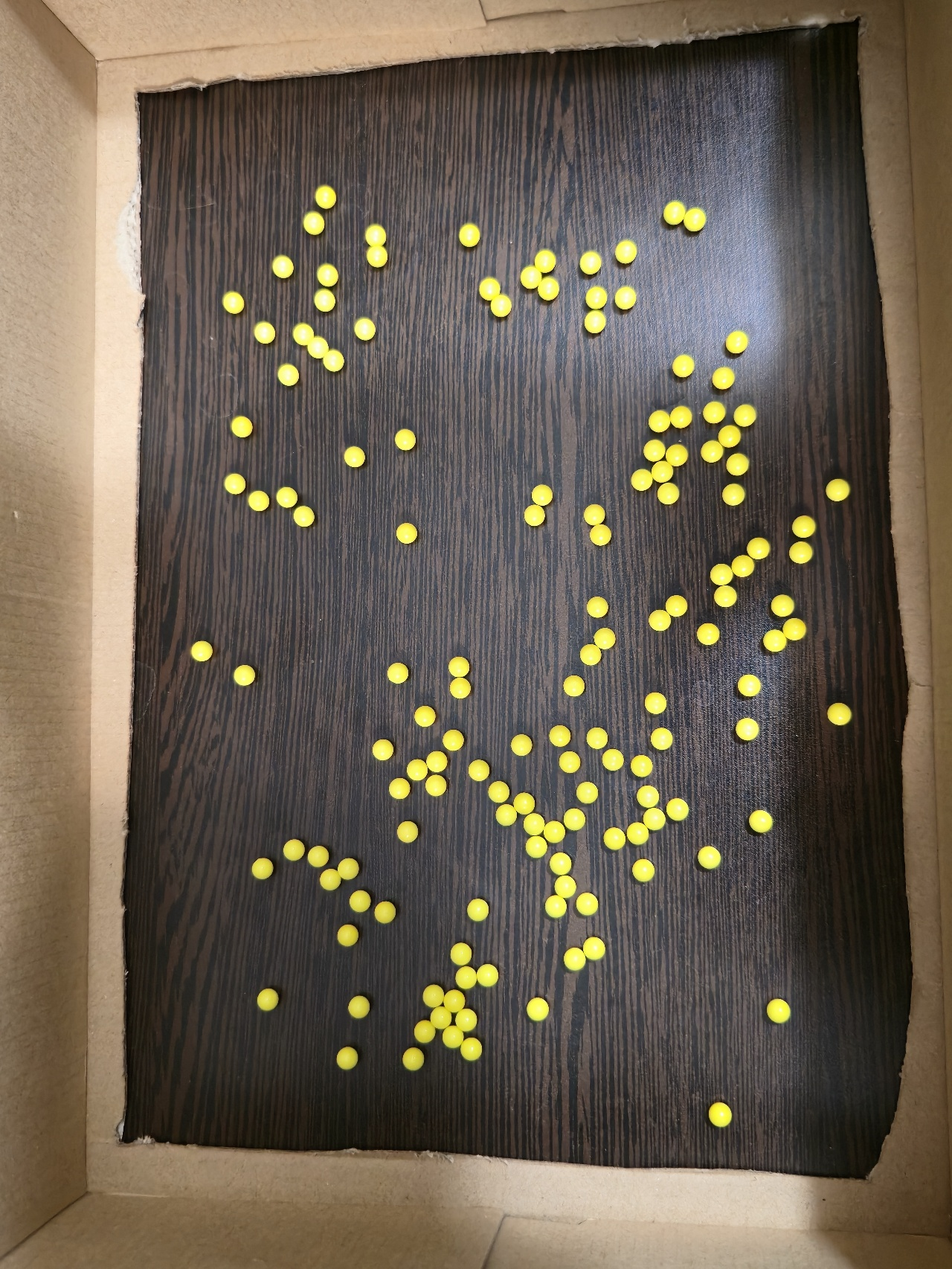yellow_bead: (772, 1004, 785, 1018), (795, 547, 808, 559), (708, 406, 721, 418), (620, 245, 632, 258), (768, 635, 782, 646), (464, 228, 475, 242), (308, 216, 319, 230), (460, 1015, 472, 1027), (532, 1003, 544, 1015), (588, 942, 600, 954), (637, 864, 649, 876), (642, 791, 654, 803), (656, 733, 668, 745), (739, 410, 751, 422), (718, 372, 730, 384), (312, 341, 324, 353), (732, 336, 744, 348), (669, 207, 681, 219), (590, 315, 601, 328), (620, 291, 631, 304), (540, 254, 550, 268), (466, 1044, 477, 1056), (550, 901, 562, 912), (560, 881, 571, 893), (555, 858, 566, 870), (704, 852, 715, 864), (609, 833, 620, 845), (549, 826, 560, 838), (755, 816, 767, 827), (649, 813, 660, 825), (672, 804, 684, 815), (744, 680, 756, 691), (788, 624, 800, 635), (654, 615, 666, 626), (720, 591, 732, 602), (798, 522, 810, 533), (728, 489, 739, 501), (832, 485, 844, 496), (657, 466, 668, 478), (298, 328, 309, 340), (585, 257, 596, 269), (776, 601, 789, 611), (228, 296, 238, 309), (321, 190, 330, 204), (408, 1054, 419, 1065), (342, 1053, 353, 1064), (428, 991, 439, 1002), (461, 972, 472, 983), (482, 970, 493, 981), (569, 954, 580, 965), (472, 905, 483, 916), (582, 899, 593, 910), (531, 841, 542, 852), (632, 828, 643, 839), (569, 814, 580, 825), (519, 798, 530, 809), (636, 761, 647, 772), (431, 756, 442, 767), (516, 740, 527, 751), (650, 698, 661, 709), (585, 649, 596, 660), (663, 488, 674, 499), (707, 446, 718, 457), (649, 445, 660, 456), (400, 434, 411, 445), (654, 416, 665, 427), (675, 412, 686, 423), (456, 948, 466, 960), (753, 544, 765, 554), (671, 451, 683, 461), (283, 369, 293, 381), (679, 360, 689, 372), (496, 300, 506, 312), (319, 294, 329, 306), (322, 269, 332, 281), (372, 250, 382, 262), (448, 1032, 458, 1043), (436, 1013, 446, 1024), (354, 1002, 364, 1013), (380, 907, 390, 918), (355, 896, 365, 907), (257, 864, 268, 874), (403, 827, 413, 838), (529, 819, 539, 830), (501, 810, 512, 820), (582, 788, 593, 798), (431, 780, 441, 791), (474, 765, 484, 776), (565, 757, 575, 768), (608, 754, 618, 765), (592, 733, 602, 744), (555, 731, 565, 742), (742, 724, 752, 735), (239, 671, 250, 681), (196, 646, 207, 656), (599, 634, 610, 644), (703, 630, 714, 640), (595, 530, 606, 540), (298, 511, 309, 521), (281, 492, 292, 502), (537, 490, 547, 501), (229, 479, 240, 489), (637, 475, 647, 486), (733, 460, 744, 470), (236, 421, 246, 432), (328, 355, 338, 366), (834, 711, 846, 720), (689, 217, 701, 226), (449, 996, 459, 1006), (263, 995, 273, 1005), (343, 864, 353, 874), (313, 852, 323, 862), (494, 787, 504, 797), (394, 784, 404, 794), (412, 765, 422, 775), (420, 712, 430, 722), (455, 683, 465, 693), (569, 681, 579, 691), (592, 603, 602, 613), (589, 510, 599, 520), (253, 496, 263, 506), (419, 1029, 430, 1038), (530, 510, 539, 521), (724, 433, 735, 442), (344, 931, 353, 941), (289, 846, 299, 855), (378, 745, 387, 755), (448, 736, 458, 745), (393, 669, 403, 678), (454, 663, 464, 672), (402, 529, 411, 539), (737, 561, 749, 568), (277, 266, 289, 273), (326, 876, 335, 885), (526, 274, 535, 283), (716, 569, 727, 576), (359, 328, 370, 335), (543, 288, 554, 295), (370, 235, 381, 242), (485, 282, 495, 289), (715, 1117, 726, 1122), (260, 333, 270, 338), (350, 452, 359, 457), (678, 603, 682, 608), (672, 603, 676, 606), (591, 294, 593, 299), (719, 1108, 722, 1110), (259, 332, 260, 332)
